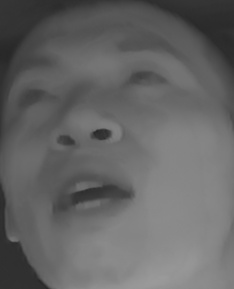eye: (126, 63, 176, 98), (11, 85, 58, 116)
mouth: (41, 152, 139, 230)
